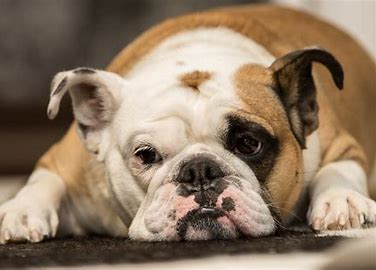dog: (5, 7, 371, 246)
